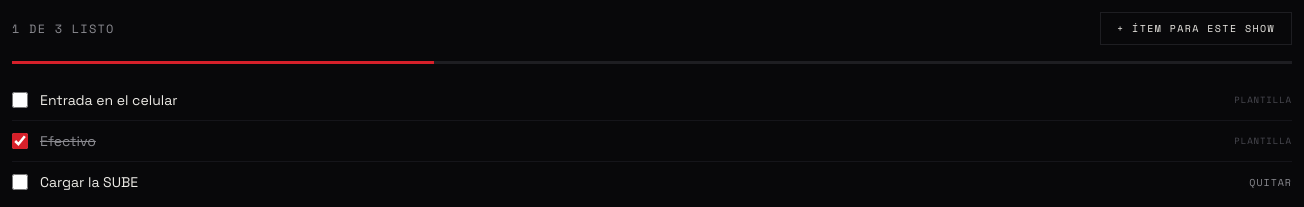
Test: PreShowChecklist › quita un ítem del show de la lista
Click the button "Quitar" at {"x": 1271, "y": 182}, box [1249,174,1292,190]
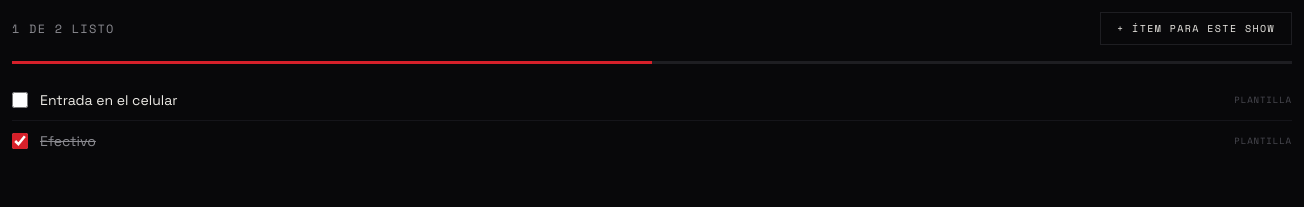
expect the text "Cargar la SUBE" is gone: met
